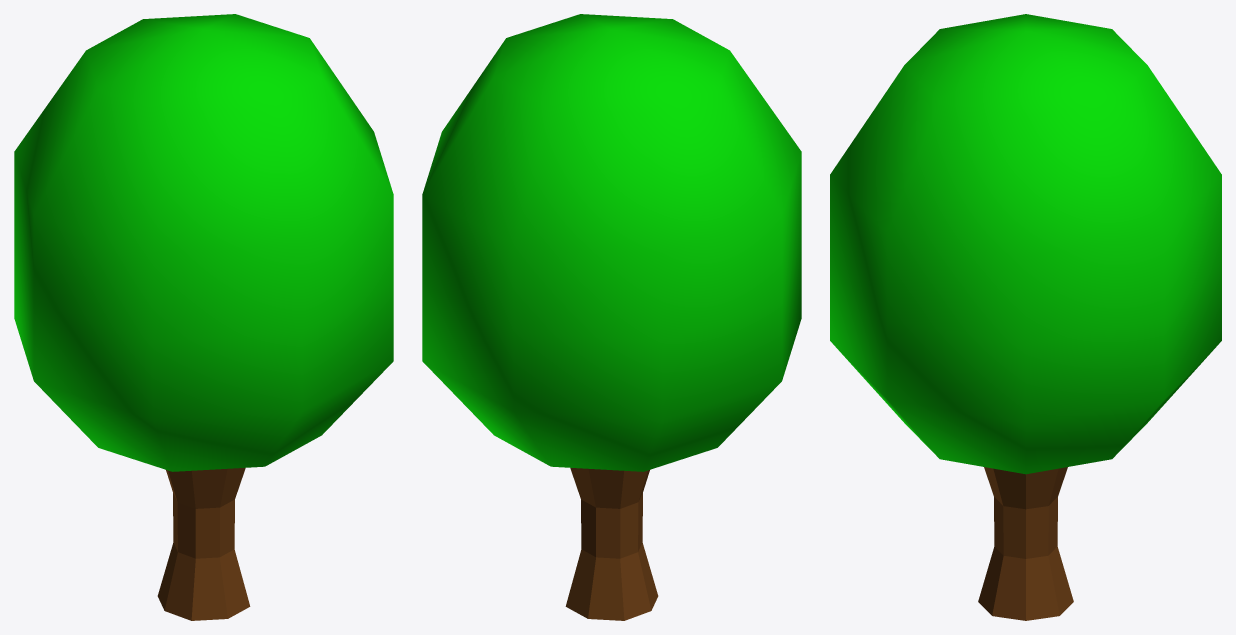
File: Arbre_D.FBX
3 views of the same model, side by side, from view 1: azimuth 30°, elevation 25°; view 2: azimuth 150°, elevation 25°; view 3: azimuth 270°, elevation 25° (orthographic).
Parts seen in each view (by area): view 1: Arbre_B; view 2: Arbre_B; view 3: Arbre_B.
Boxes of the visible parts, x1,y1,x2,y2 form: Arbre_B: (14,14,393,620); Arbre_B: (422,14,801,620); Arbre_B: (830,14,1221,620).
Size of the model in its own units: 107 by 172 by 107.
